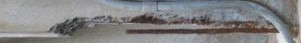Exposed reinforcement: (127, 14, 259, 27), (125, 27, 280, 35)
Spalling: (45, 12, 281, 38)
